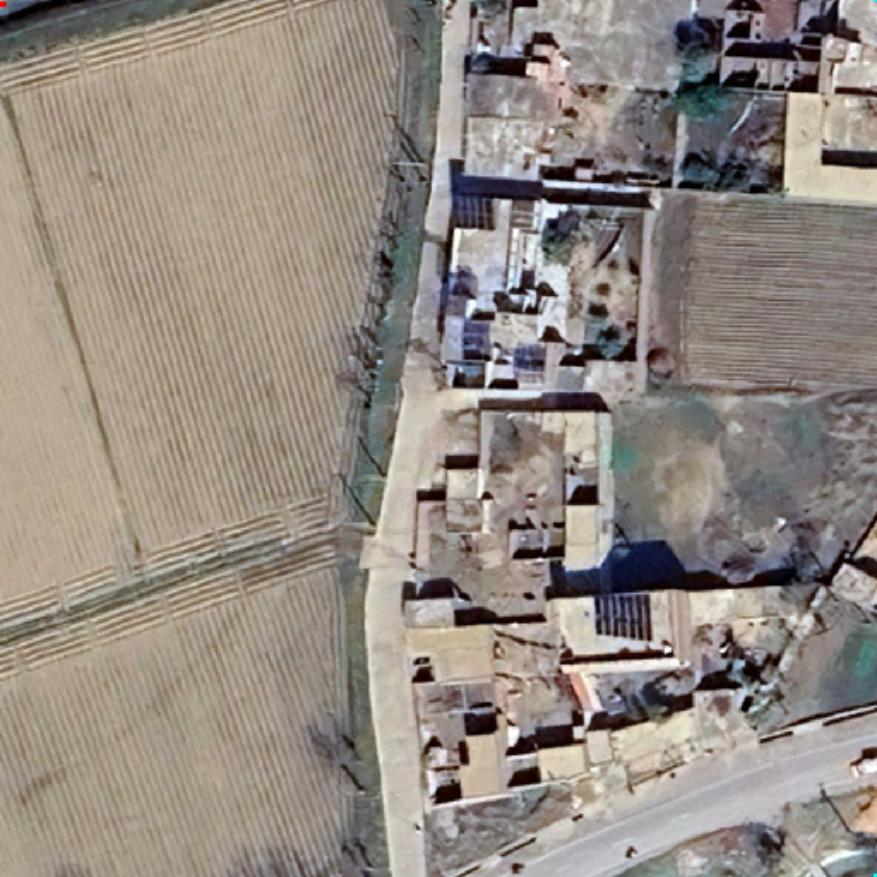Solarpanel: (590, 588, 656, 644), (447, 188, 499, 234), (509, 341, 549, 383), (458, 318, 493, 360)
